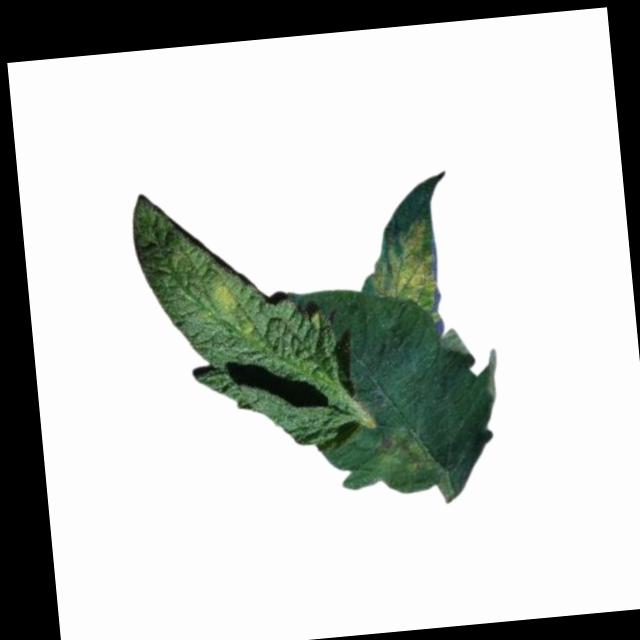Leaf_Mold: (363, 213, 444, 322), (355, 420, 451, 497), (204, 277, 242, 314)
